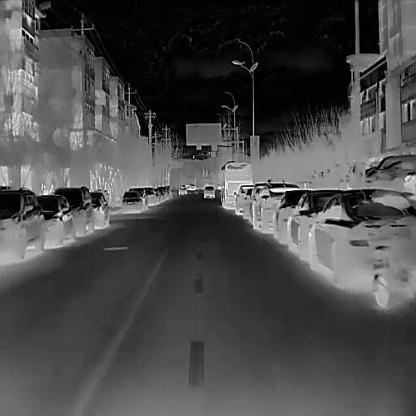bus: (218, 161, 254, 210)
car: (308, 188, 416, 307), (0, 186, 44, 267), (286, 188, 338, 256), (273, 188, 312, 243), (53, 184, 93, 236), (248, 181, 288, 231), (36, 193, 73, 247), (87, 190, 109, 232), (233, 184, 258, 214), (121, 189, 145, 213), (142, 188, 156, 206), (203, 184, 214, 198), (178, 184, 186, 194)
